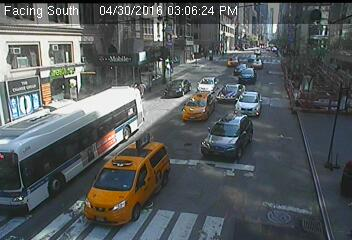neg: (182, 127, 223, 181), (290, 44, 325, 90), (154, 6, 183, 45), (109, 156, 135, 190), (54, 26, 67, 43)
